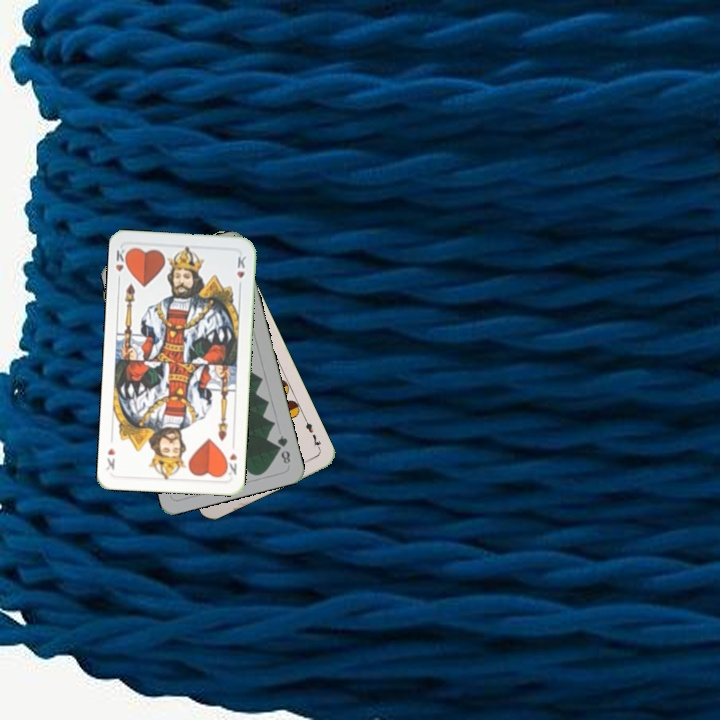E7: (301, 414, 324, 453)
G8: (273, 431, 293, 467)
HK: (111, 244, 131, 285), (221, 449, 240, 478)
